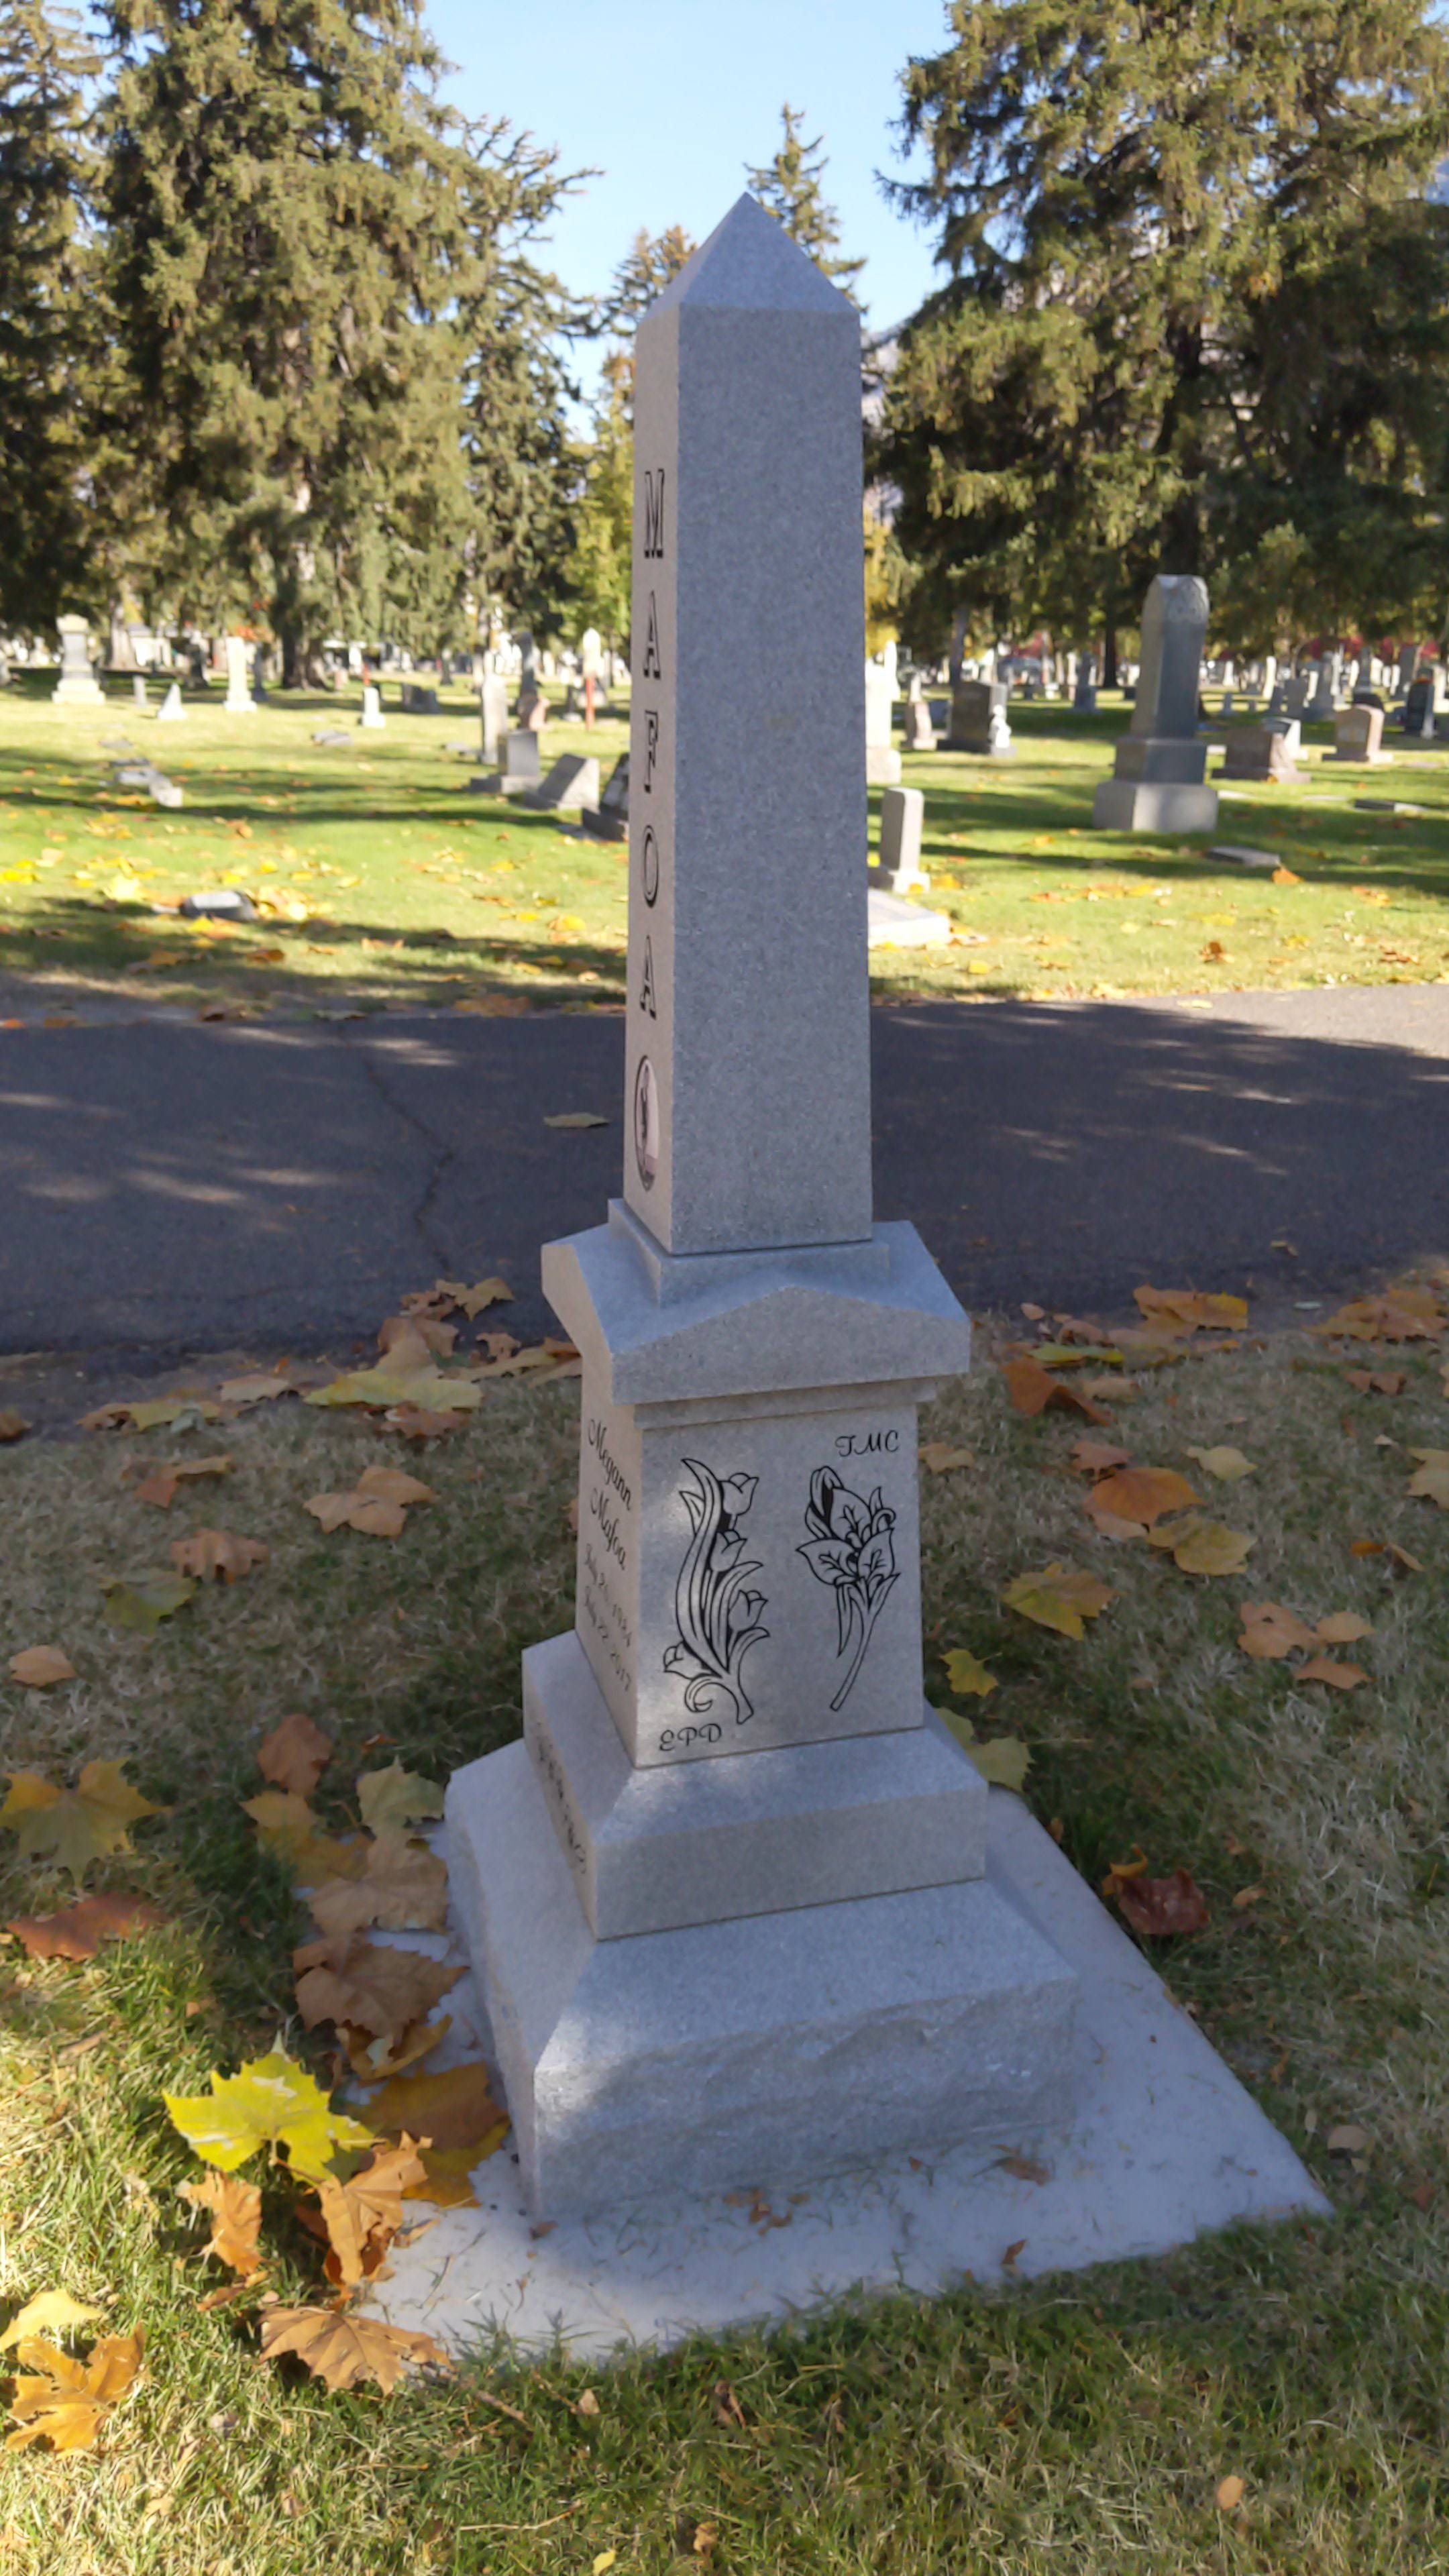obelisk: (518, 195, 991, 1948)
